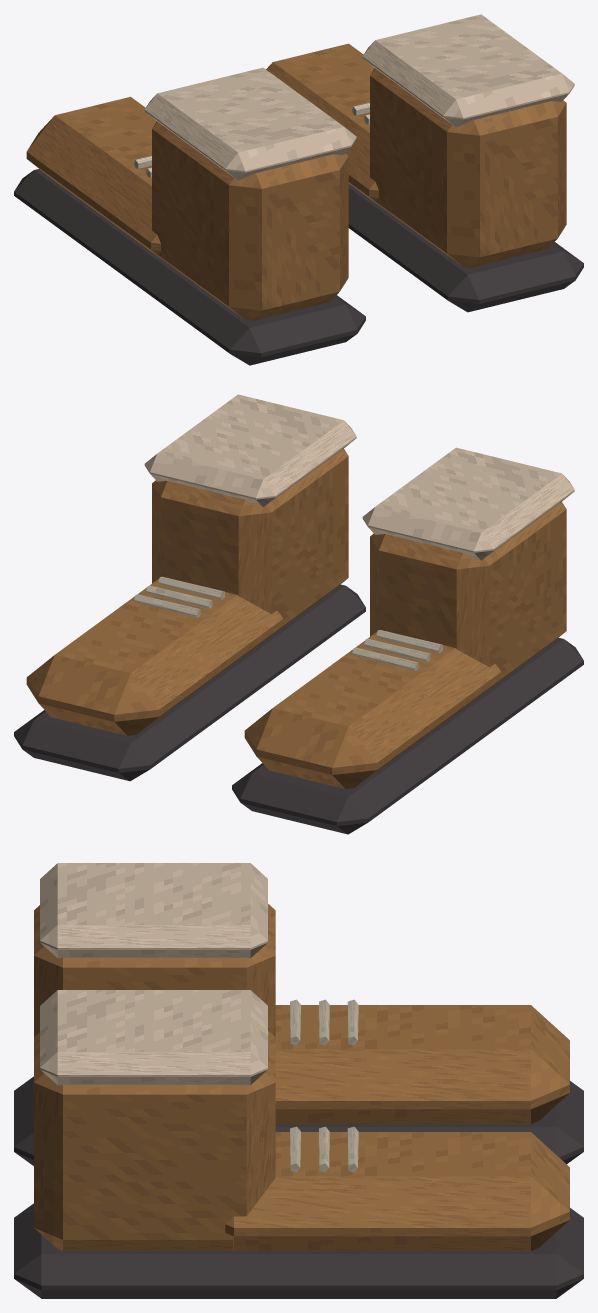
Rendered from boots_faux_fur.glb.
The picture shows the model from 3 angles, top to bottom: view 1: azimuth 30°, elevation 25°; view 2: azimuth 150°, elevation 25°; view 3: azimuth 270°, elevation 25°; orthographic projection. The views are drawn at different scales.
Parts seen in each view (by area): view 1: block_shaft (×2), block_cuff trim (×2), block_shaped sole (×2), block_vamp and toe (×2); view 2: block_shaft (×2), block_vamp and toe (×2), block_shaped sole (×2), block_cuff trim (×2), block_lace (×6); view 3: block_vamp and toe (×2), block_shaft (×2), block_cuff trim (×2), block_shaped sole (×2).
Part boxes in pixels (left/top/right/bottom): block_shaft (×2): left=152, top=68, right=566, bottom=320; block_cuff trim (×2): left=144, top=14, right=574, bottom=180; block_shaped sole (×2): left=14, top=169, right=583, bottom=365; block_vamp and toe (×2): left=26, top=43, right=391, bottom=267; block_shaft (×2): left=152, top=448, right=566, bottom=690; block_vamp and toe (×2): left=26, top=576, right=501, bottom=788; block_shaped sole (×2): left=14, top=584, right=583, bottom=834; block_cuff trim (×2): left=144, top=394, right=574, bottom=560; block_lace (×6): left=134, top=576, right=442, bottom=670; block_vamp and toe (×2): left=225, top=1005, right=569, bottom=1251; block_shaft (×2): left=34, top=904, right=275, bottom=1250; block_cuff trim (×2): left=40, top=863, right=267, bottom=1085; block_shaped sole (×2): left=14, top=1076, right=583, bottom=1298.
Bounding box in the file's own units: 0.28 × 0.1581 × 0.3269.
Materials: 1 (1 with a texture image).
